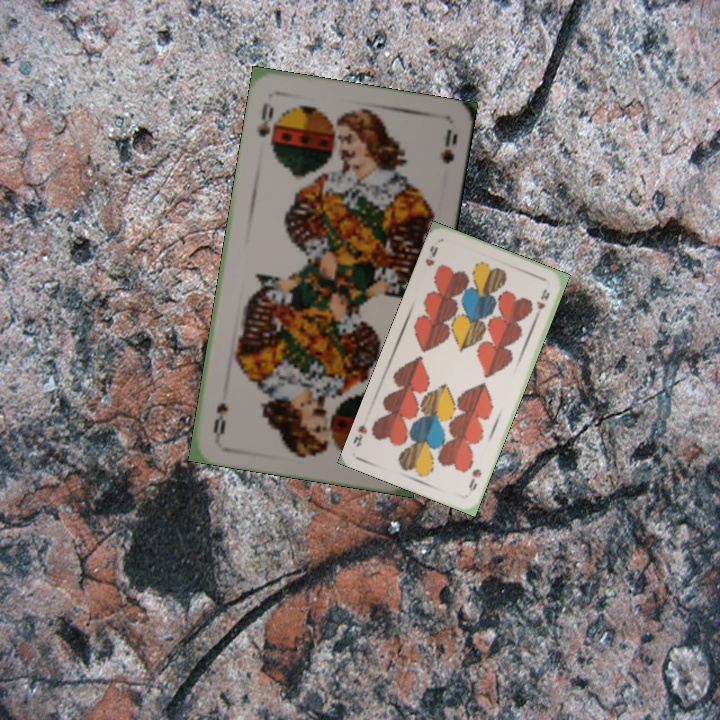H9: (464, 464, 484, 494), (421, 241, 441, 269)
SO: (253, 98, 277, 140)
